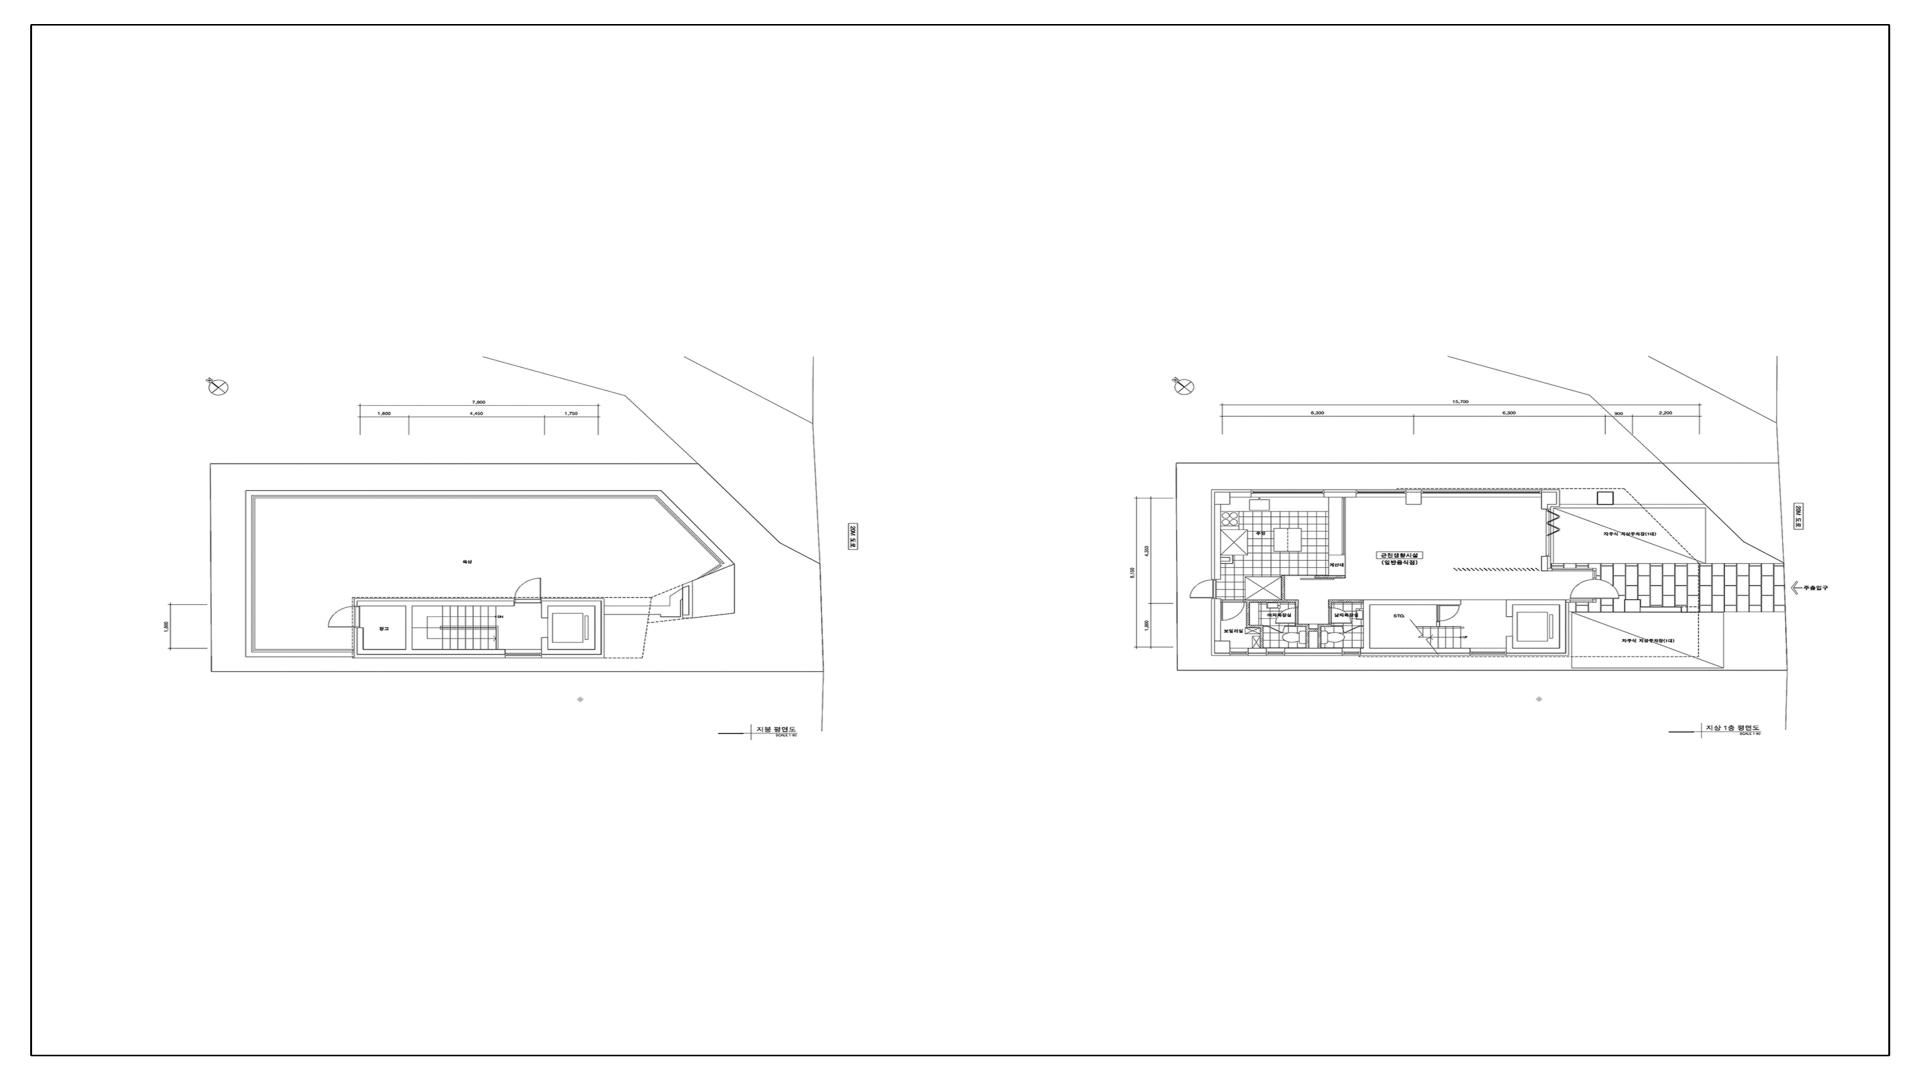door: (1570, 579, 1620, 599), (515, 578, 542, 603), (328, 607, 360, 627), (1221, 599, 1245, 621), (1190, 580, 1217, 599), (1275, 607, 1299, 624), (1328, 608, 1352, 624), (1436, 605, 1460, 621), (1332, 625, 1363, 633), (1264, 626, 1295, 633), (1285, 575, 1315, 580)
wall: (354, 598, 515, 607), (364, 649, 506, 659), (1361, 648, 1470, 656), (1211, 505, 1221, 580), (594, 598, 605, 649), (548, 649, 605, 658), (1506, 648, 1569, 656), (1559, 600, 1569, 648), (1285, 648, 1343, 656), (1370, 600, 1461, 605), (1212, 599, 1221, 641), (548, 598, 594, 606), (1541, 490, 1560, 509), (1363, 600, 1370, 648), (405, 607, 413, 649), (354, 627, 364, 658), (1211, 641, 1230, 656), (1211, 490, 1230, 504), (1506, 600, 1559, 605), (1406, 490, 1422, 505), (1324, 490, 1356, 497), (1245, 599, 1295, 603), (1248, 648, 1267, 656), (1541, 556, 1551, 571), (1230, 490, 1251, 497), (541, 637, 548, 658), (541, 598, 548, 618), (1246, 603, 1250, 628), (1281, 575, 1285, 599), (1332, 600, 1363, 603), (1315, 575, 1346, 578), (1317, 627, 1321, 648), (1506, 636, 1513, 648), (1506, 605, 1513, 617), (1306, 627, 1309, 648), (1260, 628, 1263, 648), (1317, 624, 1332, 627), (1295, 624, 1309, 627), (1250, 625, 1263, 628), (1328, 600, 1332, 608), (1295, 599, 1298, 607), (1309, 629, 1317, 632), (1436, 621, 1440, 627)
window: (1422, 490, 1541, 497), (1251, 489, 1324, 497), (1356, 490, 1406, 497), (506, 649, 541, 659), (1341, 497, 1346, 555), (1471, 648, 1506, 656), (1546, 509, 1551, 556), (1551, 568, 1596, 572), (1230, 648, 1248, 656), (1267, 648, 1285, 656), (1343, 648, 1360, 656), (1570, 600, 1596, 603), (1593, 572, 1596, 579)
